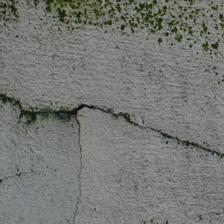Crack: (0, 72, 102, 152), (0, 184, 77, 224)
